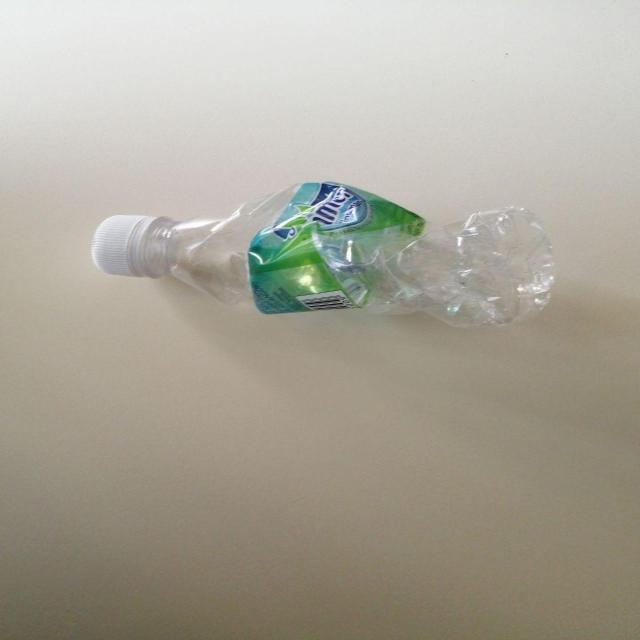Pet_Bottle: (100, 180, 560, 322)
